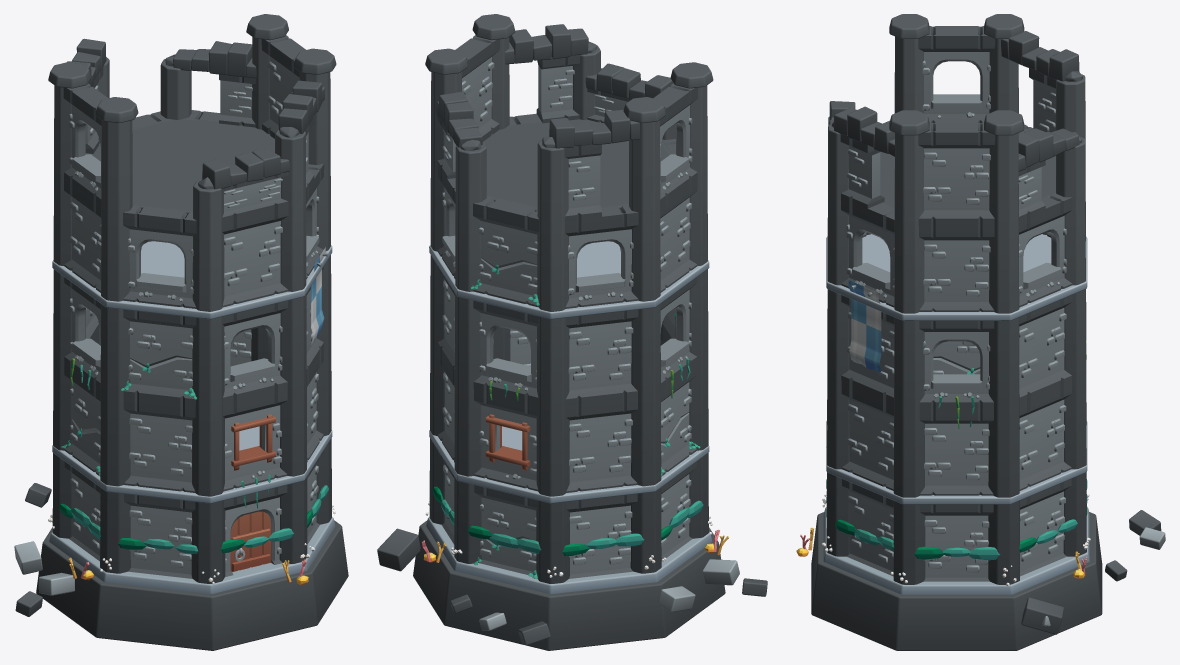
The model's file is citadel_tower.glb.
3 views of the same model, side by side, from view 1: azimuth 30°, elevation 25°; view 2: azimuth 150°, elevation 25°; view 3: azimuth 270°, elevation 25° (orthographic).
Parts seen in each view (by area): view 1: citadel_tower; view 2: citadel_tower; view 3: citadel_tower.
Boxes of the visible parts, x1=… form: citadel_tower: x1=14, y1=14, x2=348, y2=650; citadel_tower: x1=377, y1=14, x2=767, y2=650; citadel_tower: x1=796, y1=14, x2=1165, y2=650.
Bounding box in the file's own units: 11.94 × 18.15 × 11.67.
Materials: 2 (2 with a texture image).
